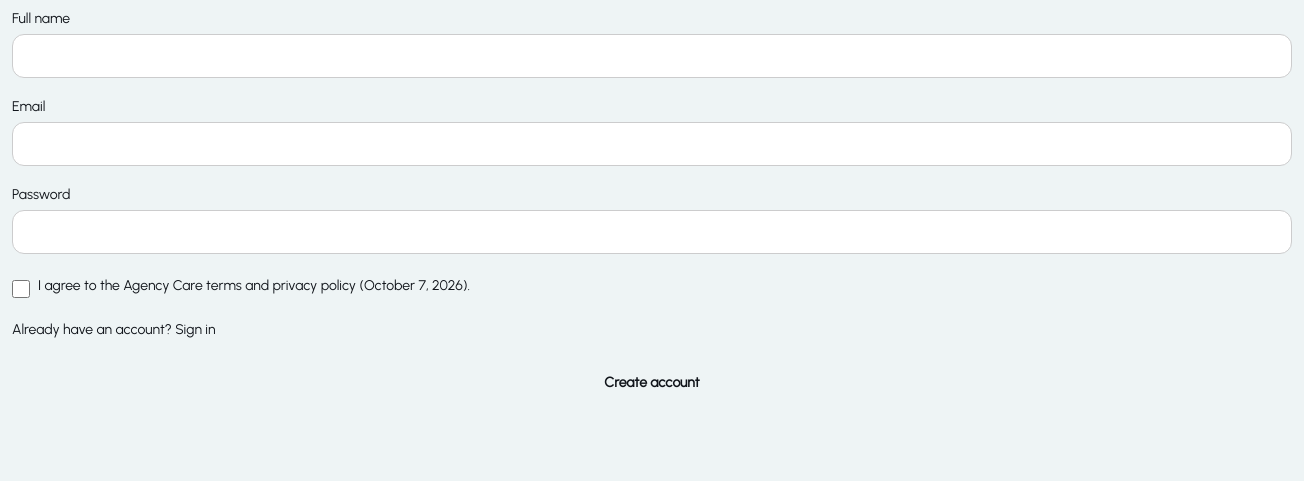
Test case: invitation-bound registration › offers sign-in recovery for an existing email without applicant creation
The image size is (1304, 481).
In the field labelled "Full name": coordinates (652, 56) [12,34,1292,78], type "Partner Person"
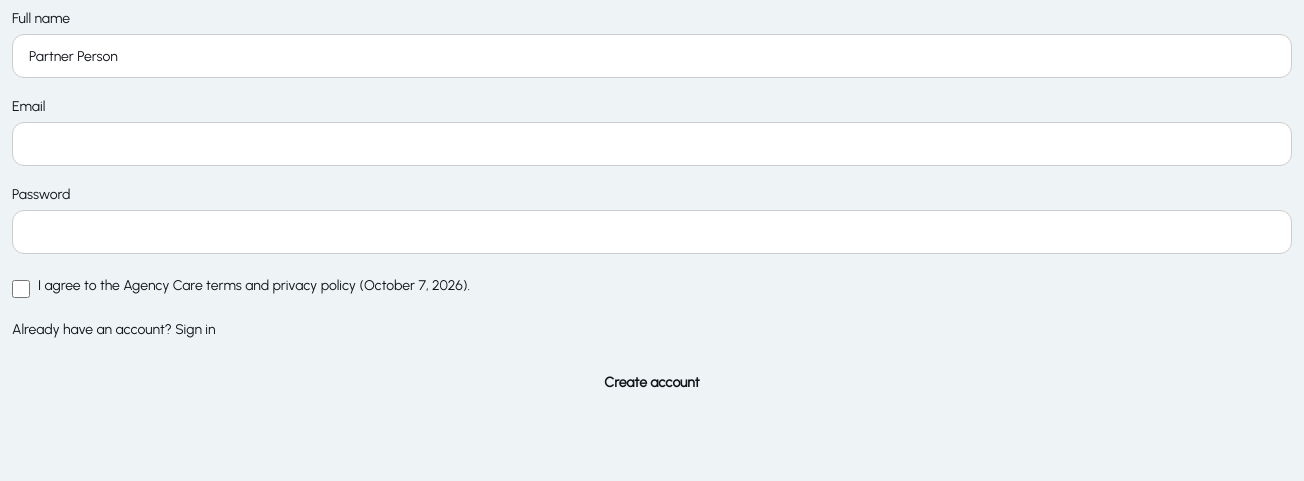
In the field labelled "Email": coordinates (652, 144) [12,122,1292,166], type "partner@example.test"
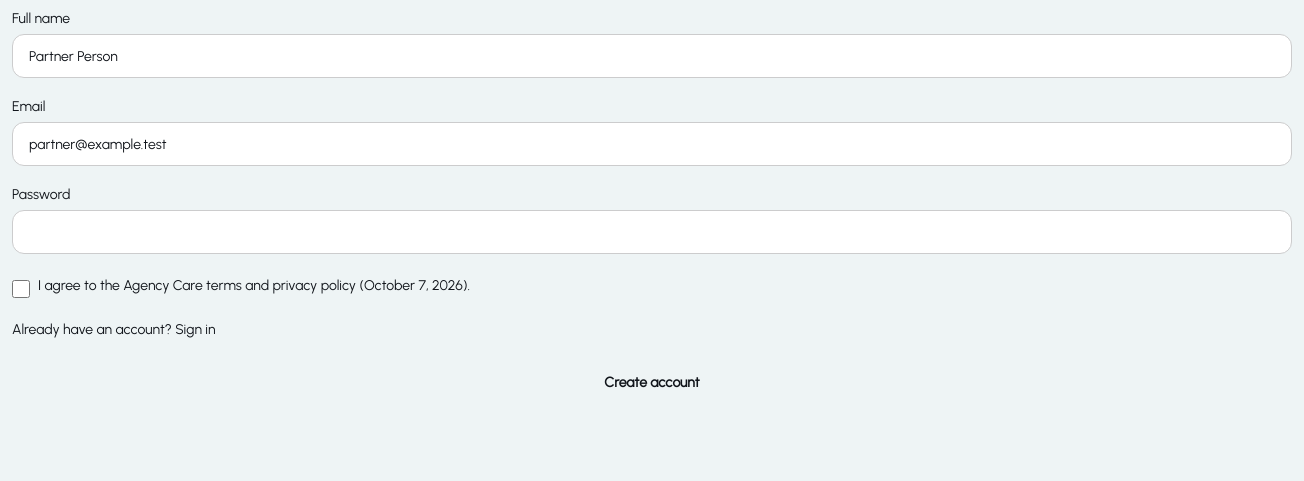
In the password field labelled "Password": coordinates (652, 232) [12,210,1292,254], type "password123"
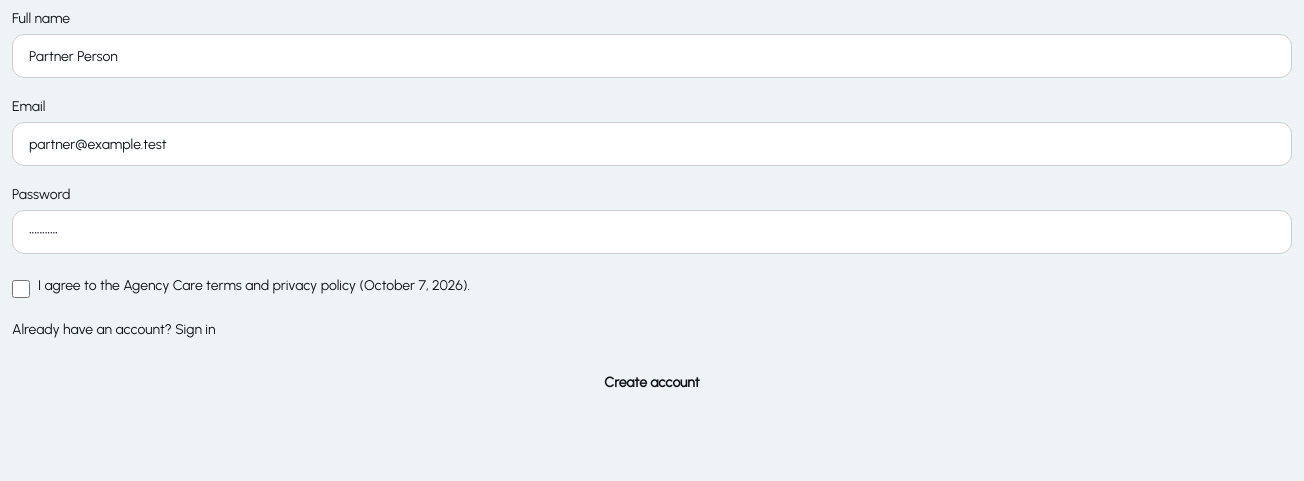
Click the checkbox labelled "I agree": coordinates (21, 289) [12,280,30,298]
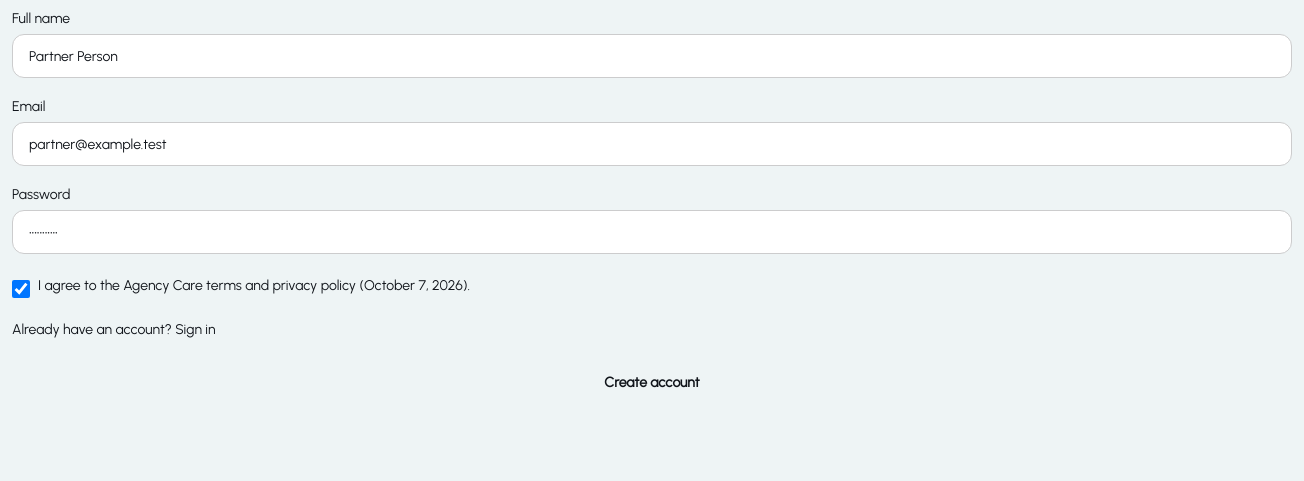
Click the button "Create account": coordinates (652, 383) [12,362,1292,404]
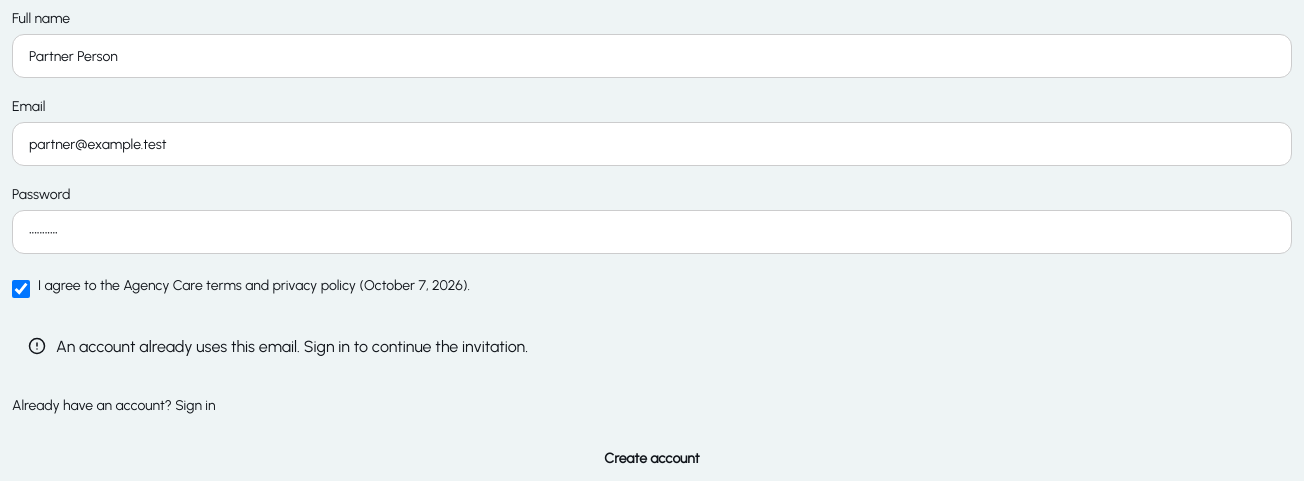
Expected: the message shows "Sign in to continue", [56,337,528,356]
